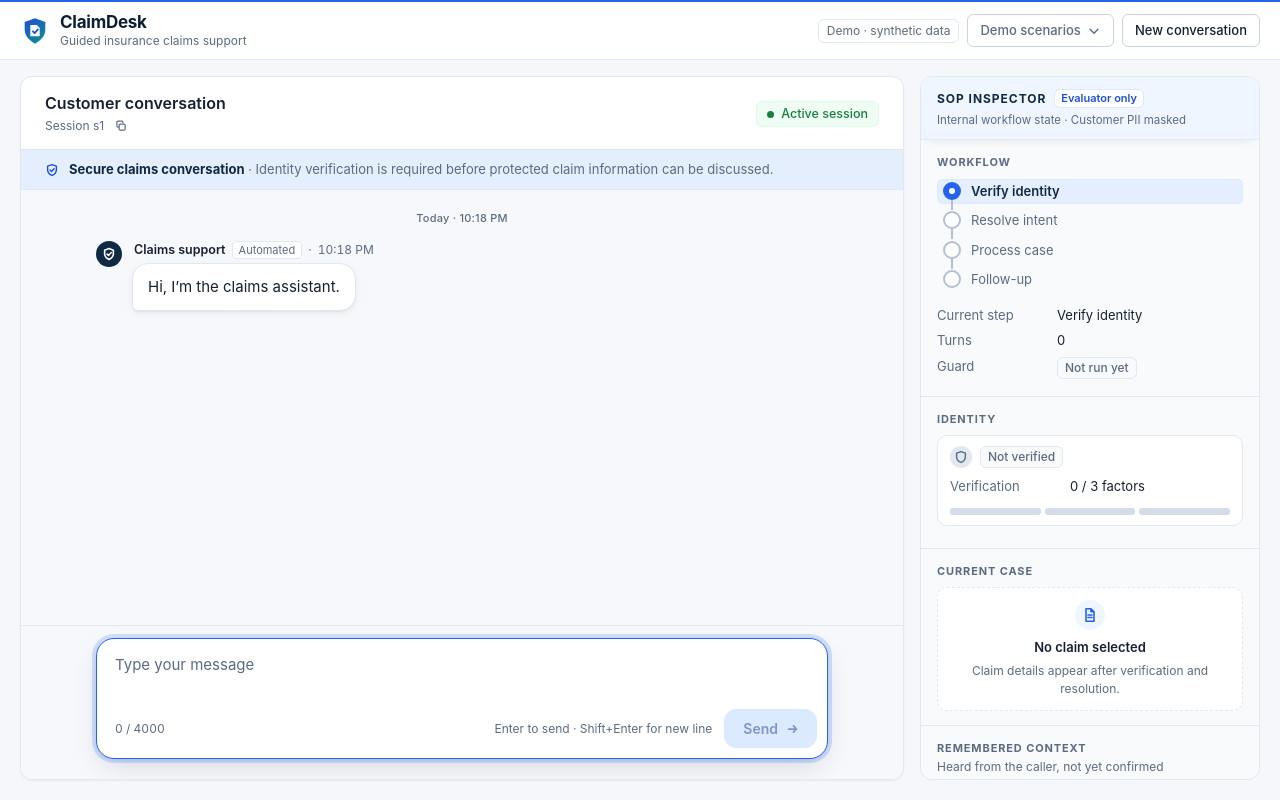
Test: workflow › refreshes the current step after each reply
expect the text "Hi, I’m the claims assistant." is shown: met, box [148,275,340,299]
expect the text "Current step" shows "Verify identity": met, box [1057,307,1142,323]
Type "hello" into the text box labelled "your message" at (462, 671), box [97,639,827,703]
Then press Enter
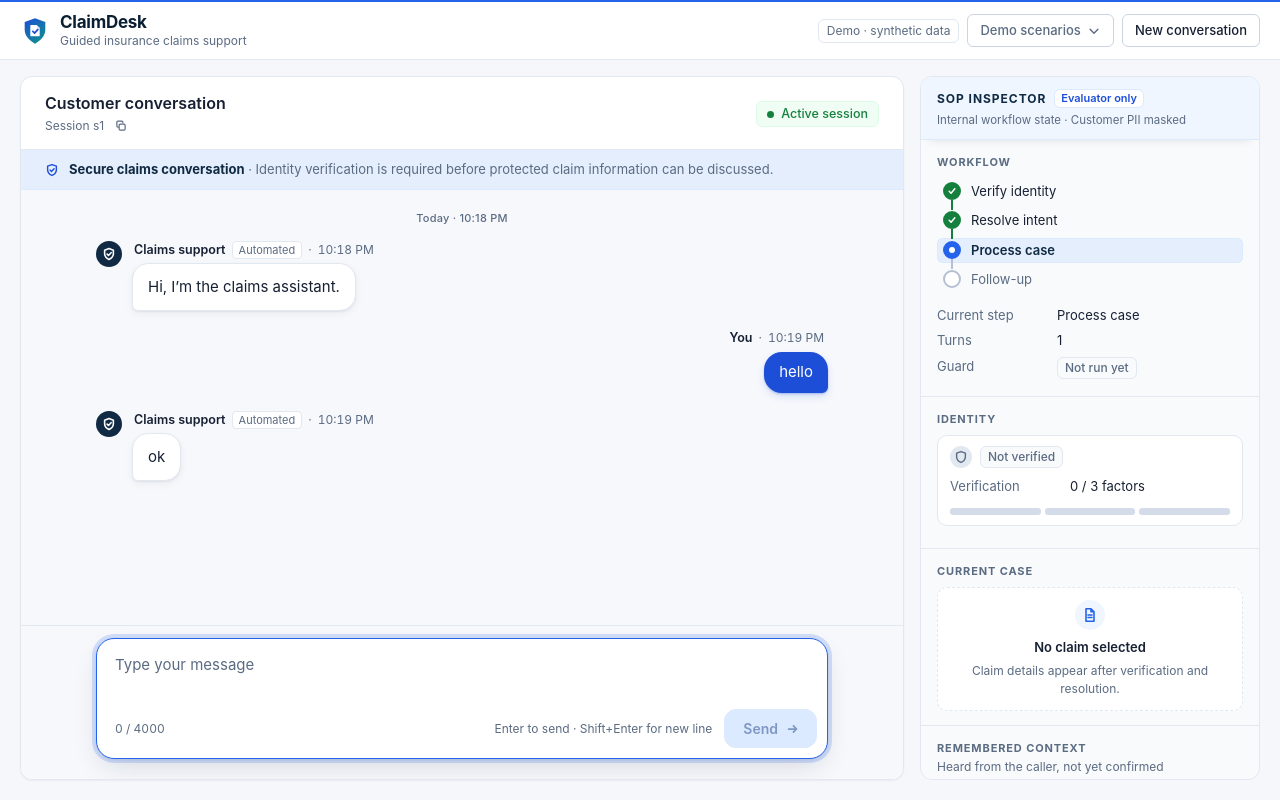
expect the text "Current step" shows "Process case": met, box [1057,307,1140,323]
expect the text "Turns" shows "1": met, box [1057,332,1062,348]
